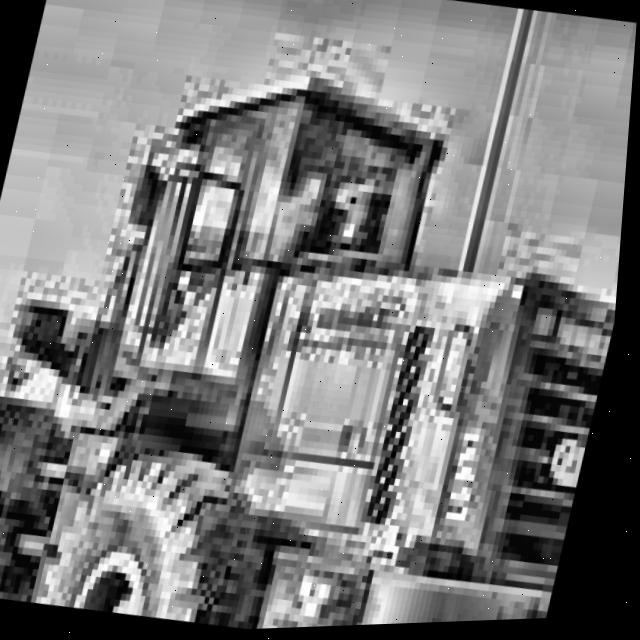buldozerpayloadergrader: (0, 6, 639, 640)
